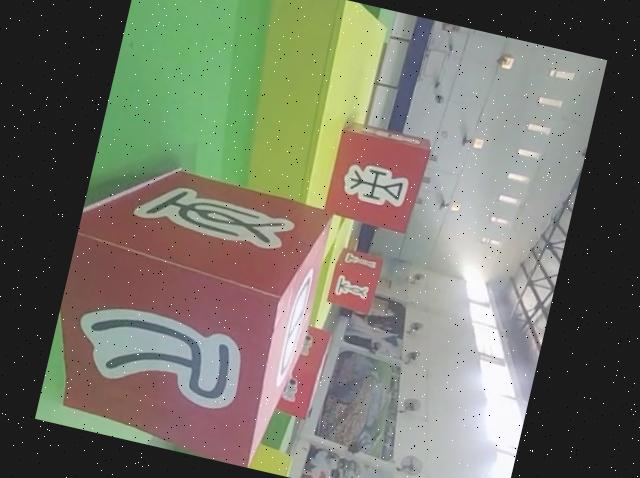R2 Fake: (34, 143, 339, 474)
R2 Real: (317, 117, 433, 237), (321, 244, 385, 325)
